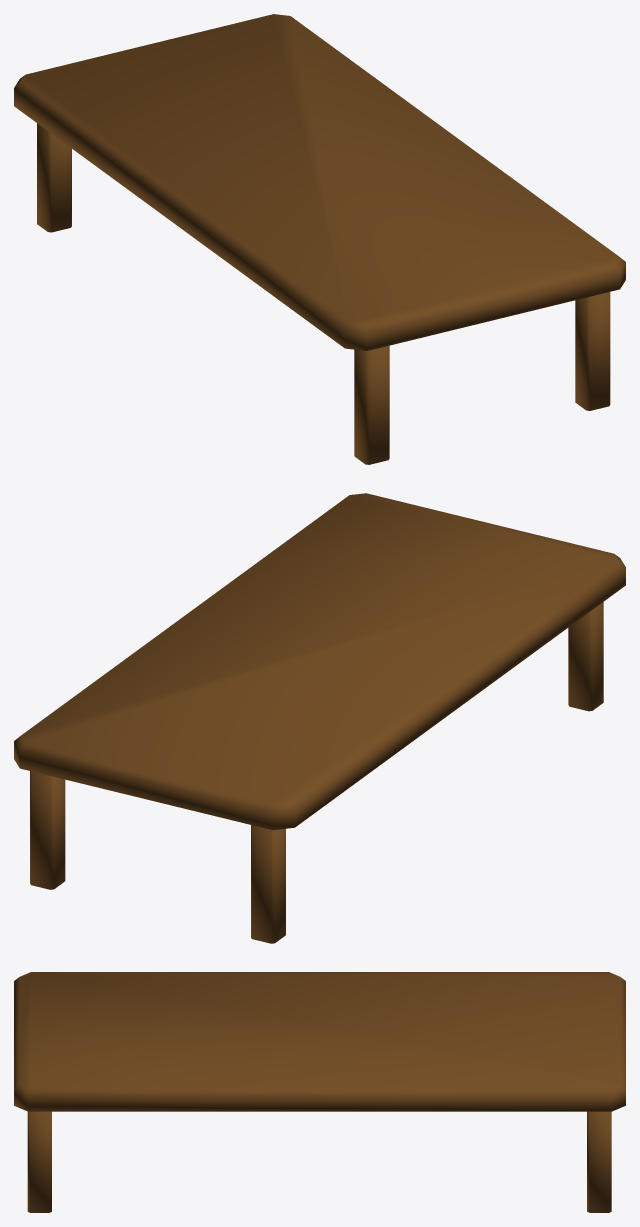
The model's file is CoffeeTableLong.fbx.
The picture shows the model from 3 angles, top to bottom: view 1: azimuth 30°, elevation 25°; view 2: azimuth 150°, elevation 25°; view 3: azimuth 270°, elevation 25°; orthographic projection. The views are drawn at different scales.
Visible parts, largest first — view 1: reception_coffeetable; view 2: reception_coffeetable; view 3: reception_coffeetable.
Boxes of the visible parts, x1,y1,x2,y2 form: reception_coffeetable: (14,14,625,464); reception_coffeetable: (14,493,625,943); reception_coffeetable: (14,972,625,1212).
Bounding box in the file's own units: 110 × 54.78 × 236.
